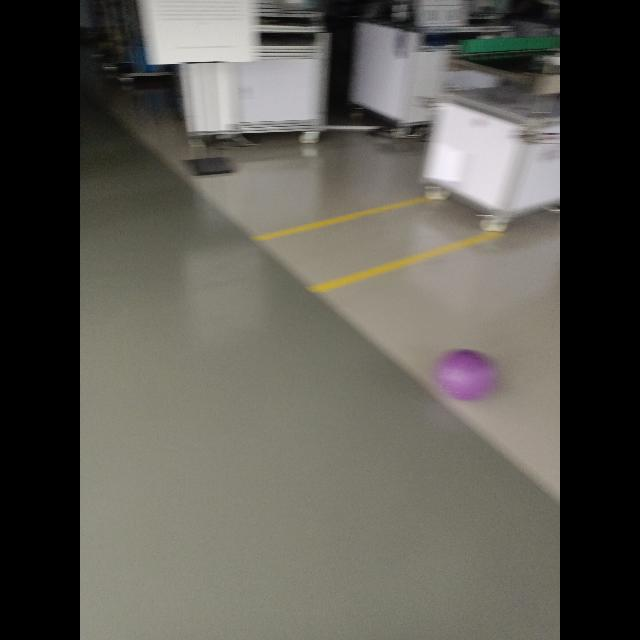P: (432, 348, 496, 399)
